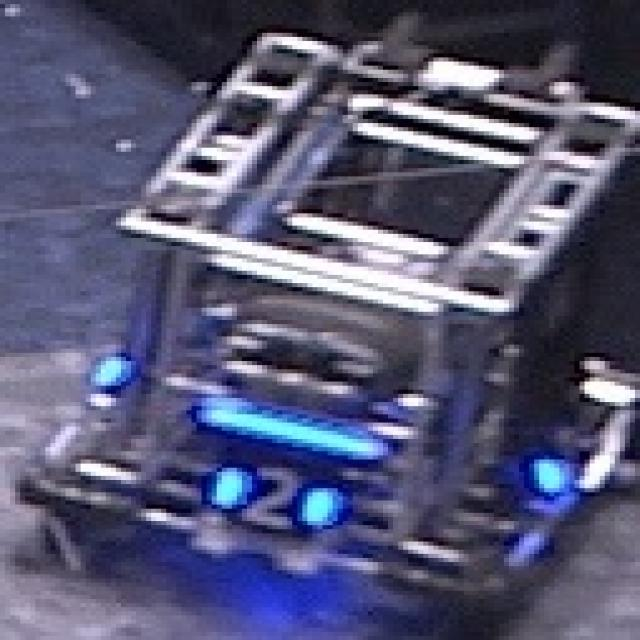B2: (206, 456, 342, 534)
